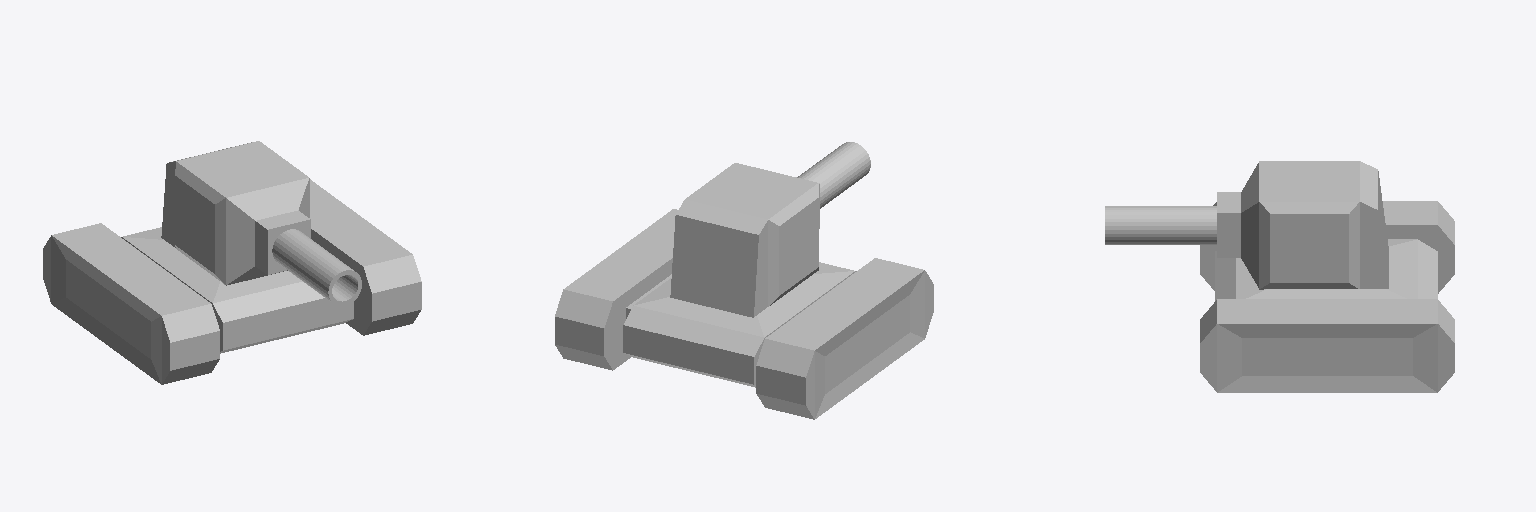
Rendered from biotank_v1.obj.
3 views of the same model, side by side, from view 1: azimuth 30°, elevation 25°; view 2: azimuth 150°, elevation 25°; view 3: azimuth 270°, elevation 25° (orthographic).
Parts seen in each view (by area): view 1: Cube.003, Cube.001, Cube, Cube.002; view 2: Cube.003, Cube.001, Cube, Cube.002; view 3: Cube.003, Cube.002, Cube, Cube.001.
Part boxes in pixels (x1,y1,x2,y2): Cube.003: (161, 141, 361, 305); Cube.001: (43, 223, 219, 384); Cube: (121, 227, 353, 353); Cube.002: (310, 179, 421, 335); Cube.003: (670, 142, 870, 317); Cube.001: (756, 258, 933, 419); Cube: (623, 262, 856, 387); Cube.002: (555, 209, 677, 370); Cube.003: (1105, 161, 1388, 289); Cube.002: (1200, 299, 1454, 392); Cube: (1215, 239, 1437, 300); Cube.001: (1200, 201, 1454, 293).
Bounding box in the file's own units: 3.19 × 1.83 × 3.85.